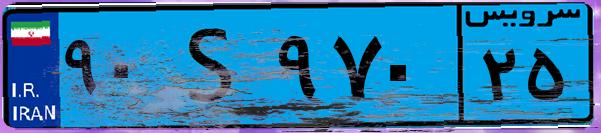0: (385, 28, 445, 110), (110, 28, 158, 98)
2: (475, 38, 525, 113)
5: (525, 38, 570, 115)
7: (330, 28, 385, 110)
9: (270, 28, 330, 110), (57, 26, 110, 100)
S: (158, 12, 270, 120)
